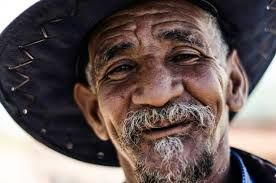no-mask: (72, 19, 251, 181)
